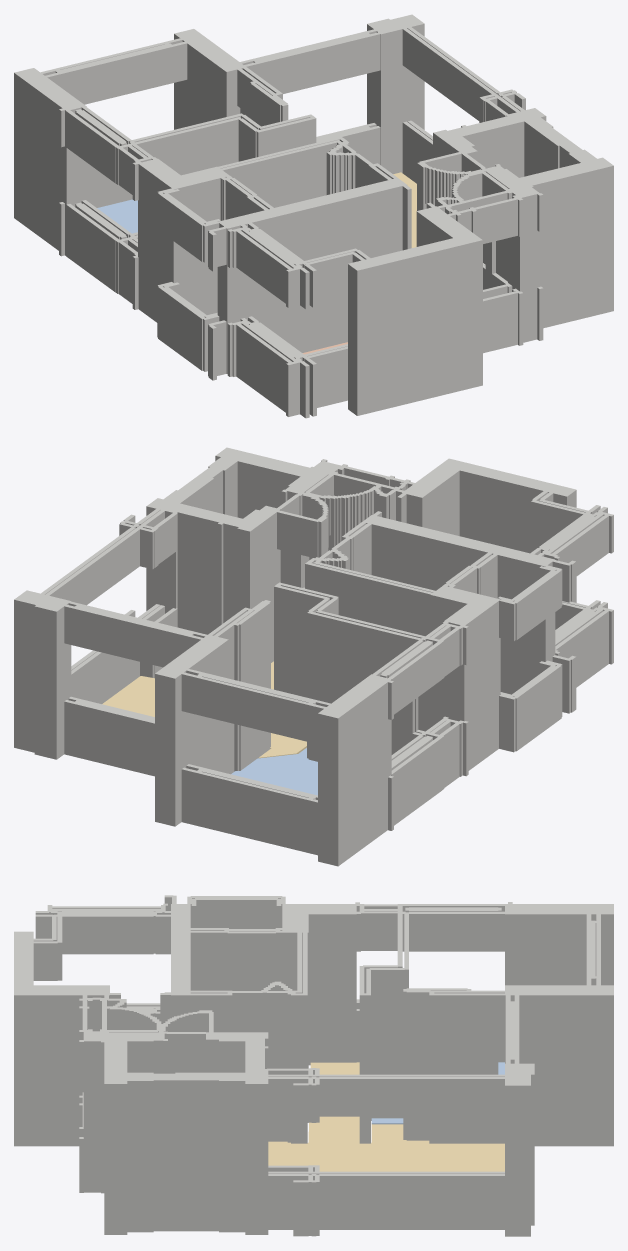
The picture shows the model from 3 angles, top to bottom: view 1: azimuth 30°, elevation 25°; view 2: azimuth 150°, elevation 25°; view 3: azimuth 270°, elevation 25°; orthographic projection. The views are drawn at different scales.
Visible parts, largest first — view 1: walls, room:bedroom:1; view 2: walls, room:bedroom:1, room:living:0; view 3: walls, room:living:0.
Boxes of the visible parts, <box> form: walls: <box>14,14,613,418</box>; room:bedroom:1: <box>97,199,137,233</box>; walls: <box>14,447,613,866</box>; room:bedroom:1: <box>231,748,317,795</box>; room:living:0: <box>102,661,306,758</box>; walls: <box>14,895,613,1236</box>; room:living:0: <box>268,1062,504,1171</box>.
Bounding box in the file's own units: 7.57 × 2.8 × 10.08.
